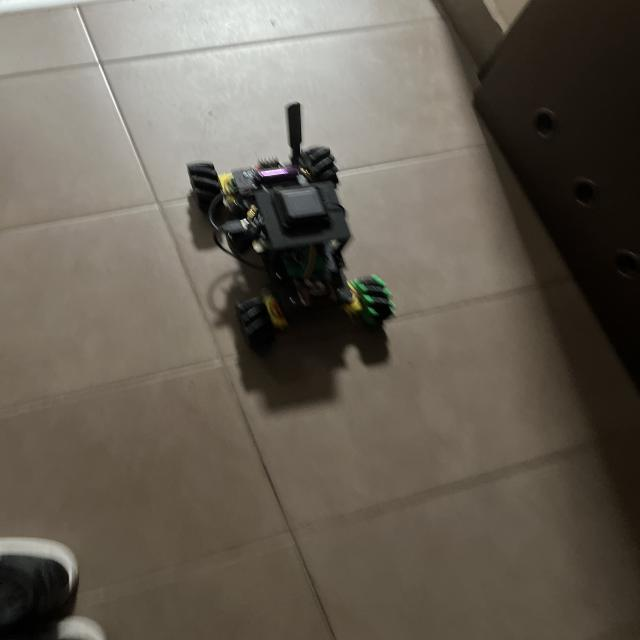robot: (188, 103, 395, 351)
